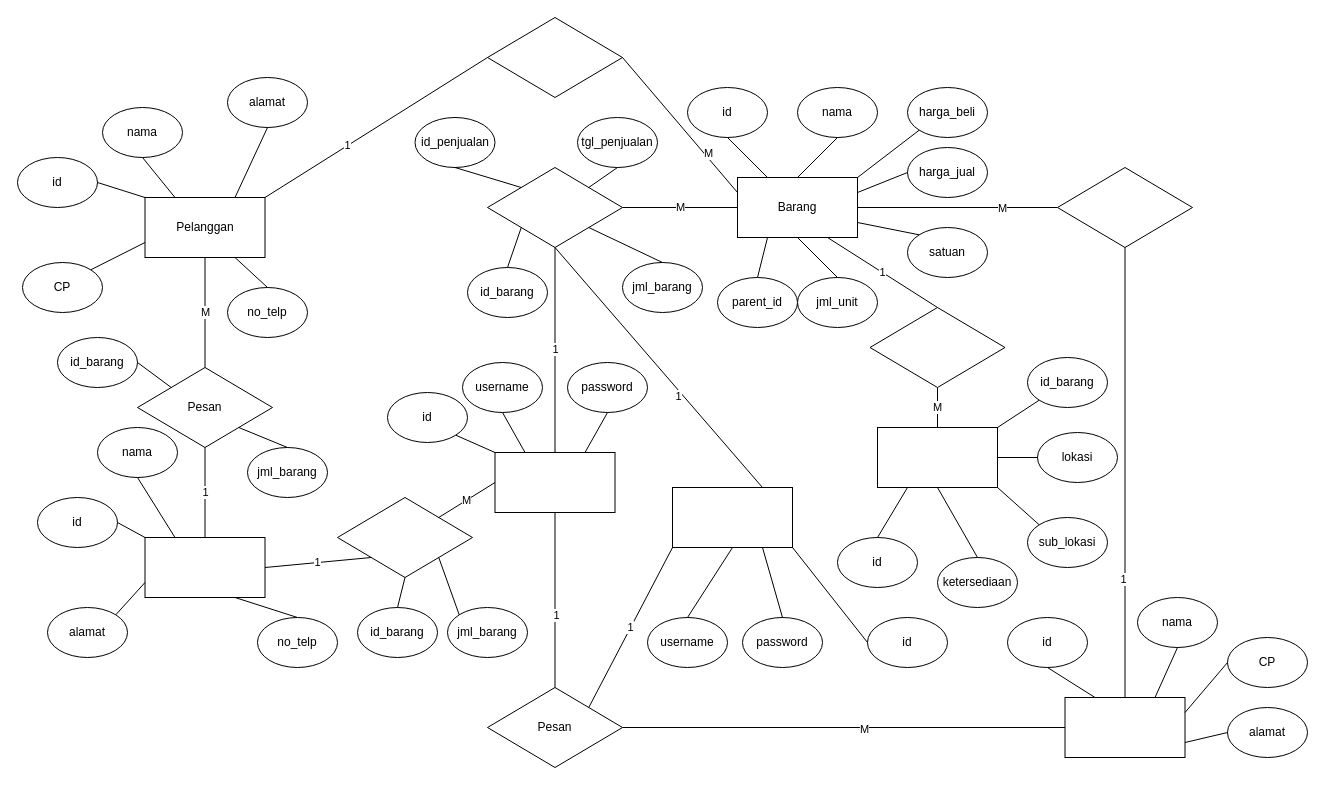
The diagram is 1325 pixels wide and 785 high, and some of its shapes have lost their labels. The shapes that lost their labels are listed below. From the top down, each one's box as (x1, y1, x2, y2) in pixels, then its label:
(486, 16, 622, 98): Terima
(486, 166, 622, 248): Jual
(1056, 166, 1192, 248): Kirim
(869, 306, 1005, 388): Sedia
(876, 426, 998, 488): Stok
(494, 452, 615, 512): Pegawai
(336, 496, 472, 578): Info
(672, 486, 792, 548): manager
(144, 536, 265, 598): Sales
(1064, 696, 1185, 758): Suplier
